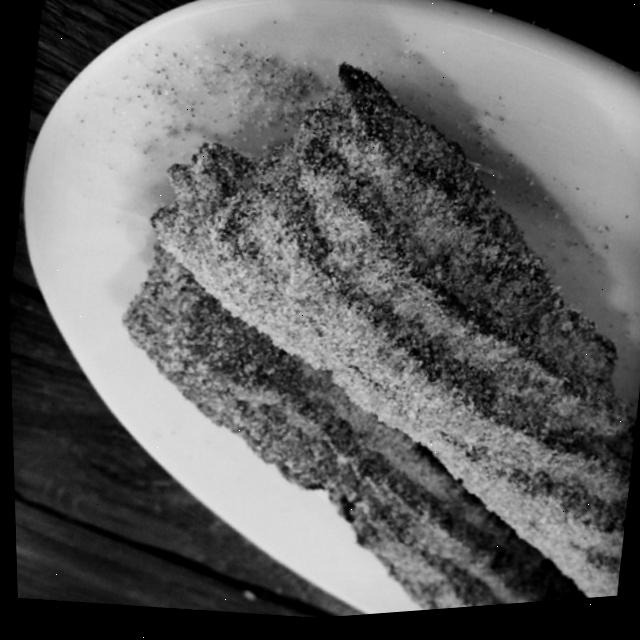炸货点心: (41, 0, 640, 638)
